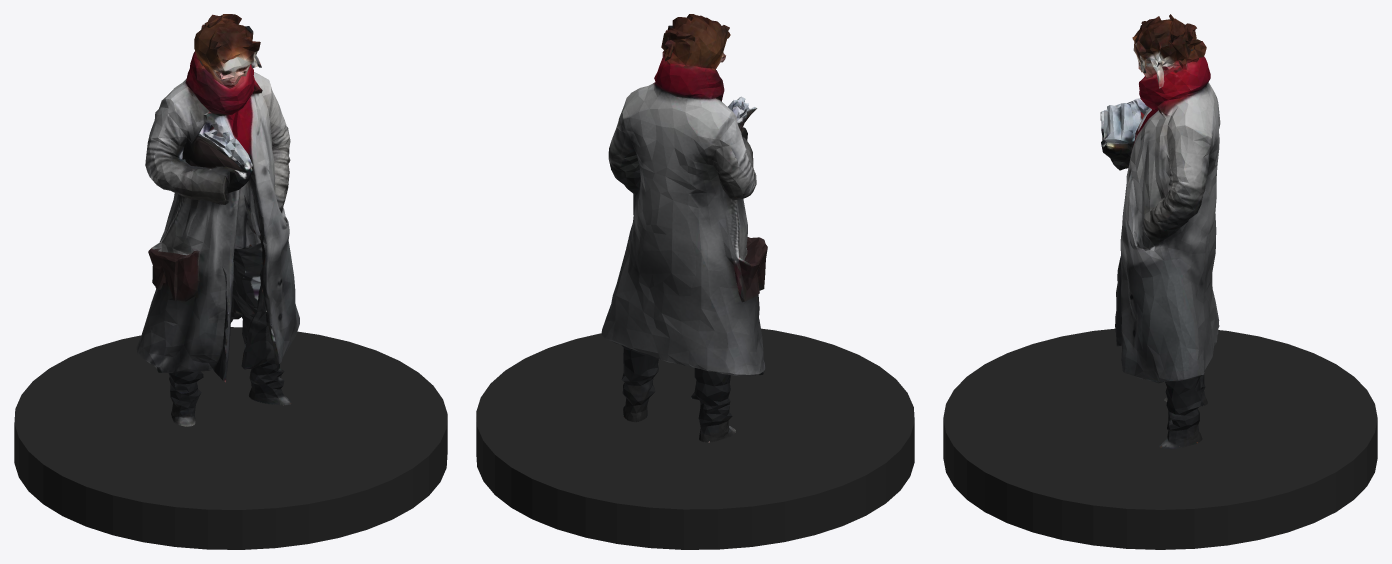
Rendered from alexis-grey.glb.
3 views of the same model, side by side, from view 1: azimuth 30°, elevation 25°; view 2: azimuth 150°, elevation 25°; view 3: azimuth 270°, elevation 25° (orthographic).
Visible parts, largest first — view 1: base, figure; view 2: base, figure; view 3: base, figure.
Boxes of the visible parts, left/top/right/bottom form: base: left=14, top=327, right=447, bottom=549; figure: left=136, top=14, right=299, bottom=426; base: left=476, top=328, right=914, bottom=549; figure: left=601, top=14, right=767, bottom=442; base: left=943, top=328, right=1377, bottom=549; figure: left=1100, top=14, right=1220, bottom=449.
Size of the model in its own units: 1.18 by 1.32 by 1.18.
Materials: 2 (1 with a texture image).
